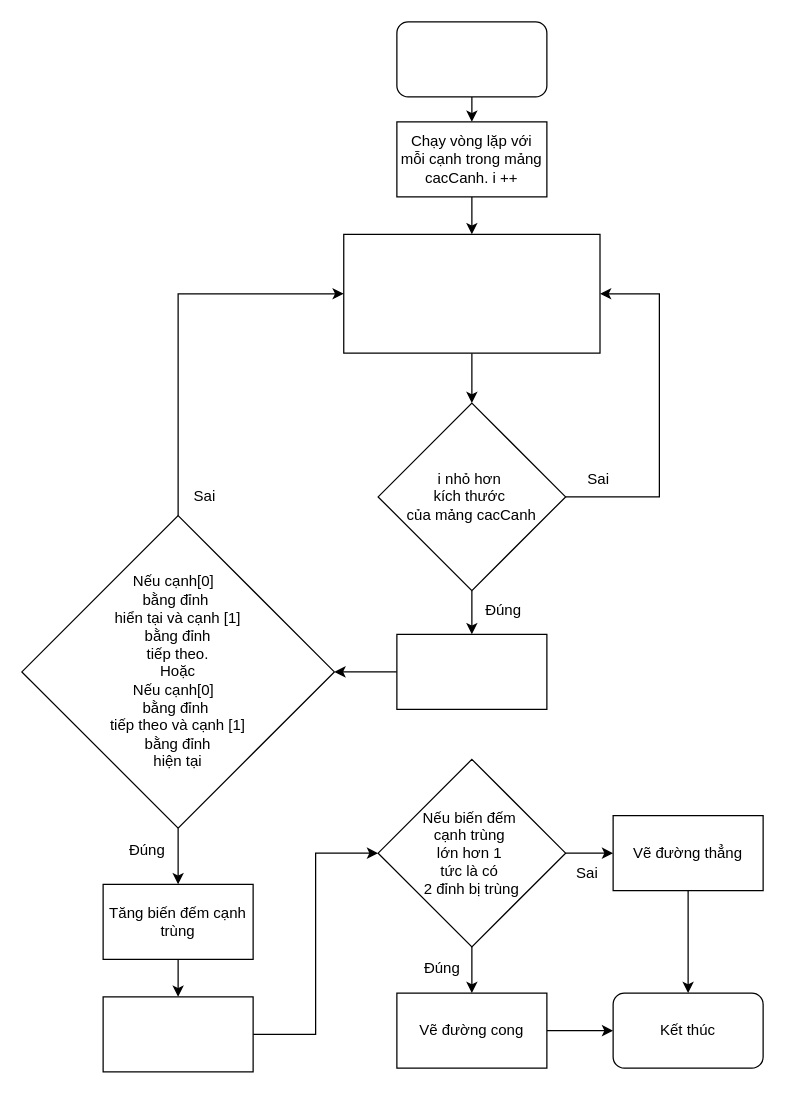
This 785x1094 diagram has some shape labels left out. The centre of each missing label's shape, as x and y in pixels:
"Bắt đầu" goes at (x=471, y=59).
"Cho biến cạnh = cacCanh[i]" goes at (x=471, y=671).
"Cho x1. y1 là vị trí của đỉnh hiện tại. Cho x2. y2 là vị trí của đỉnh tiếp theo" goes at (x=471, y=293).
"Kết thúc vòng lặp" goes at (x=177, y=1034).
